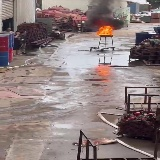fire: (97, 25, 113, 36)
